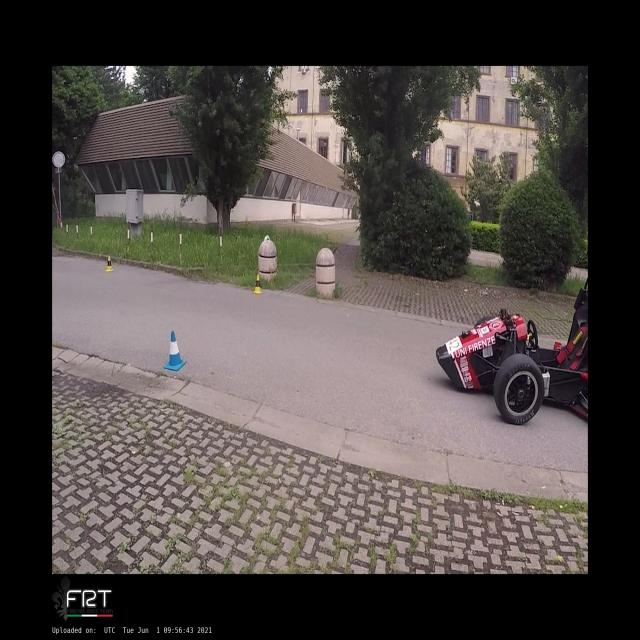blue_cone: (163, 331, 187, 371)
yellow_cone: (252, 274, 262, 294), (106, 256, 114, 272)
